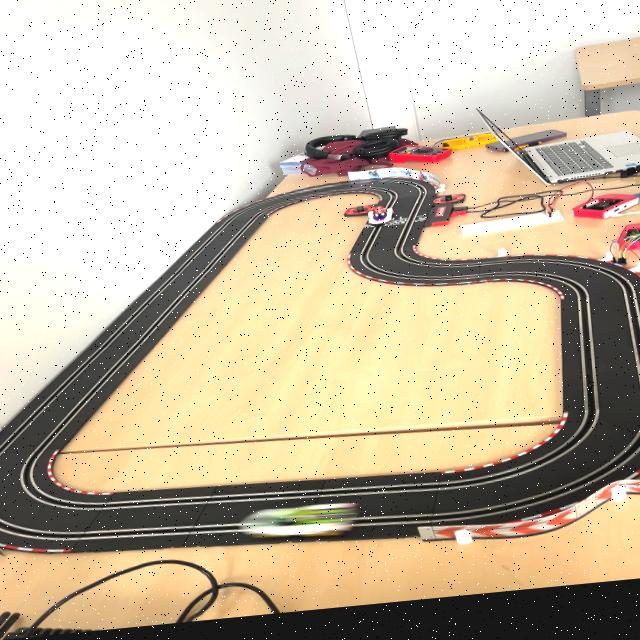mario: (364, 213, 398, 234)
yoshi: (236, 505, 364, 553)
